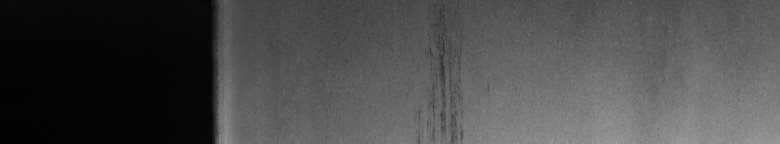ka: (418, 9, 464, 136)
